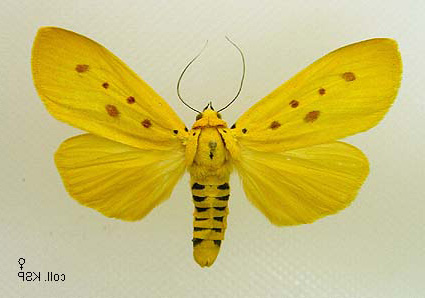Agape chloropyga: (24, 25, 404, 266)
moth: (22, 28, 402, 269)
